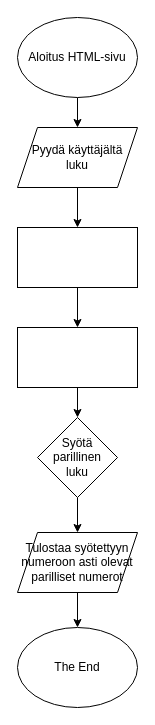
Image size: 155x725. Some labels were removed from this diagram. Each missing label, with the centre of its shape:
"Lue muuttujaan käyttäjän valinta" goes at point (77, 357).
"Luo muuttuja" goes at point (77, 257).
